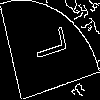L: (24, 25, 68, 65)
